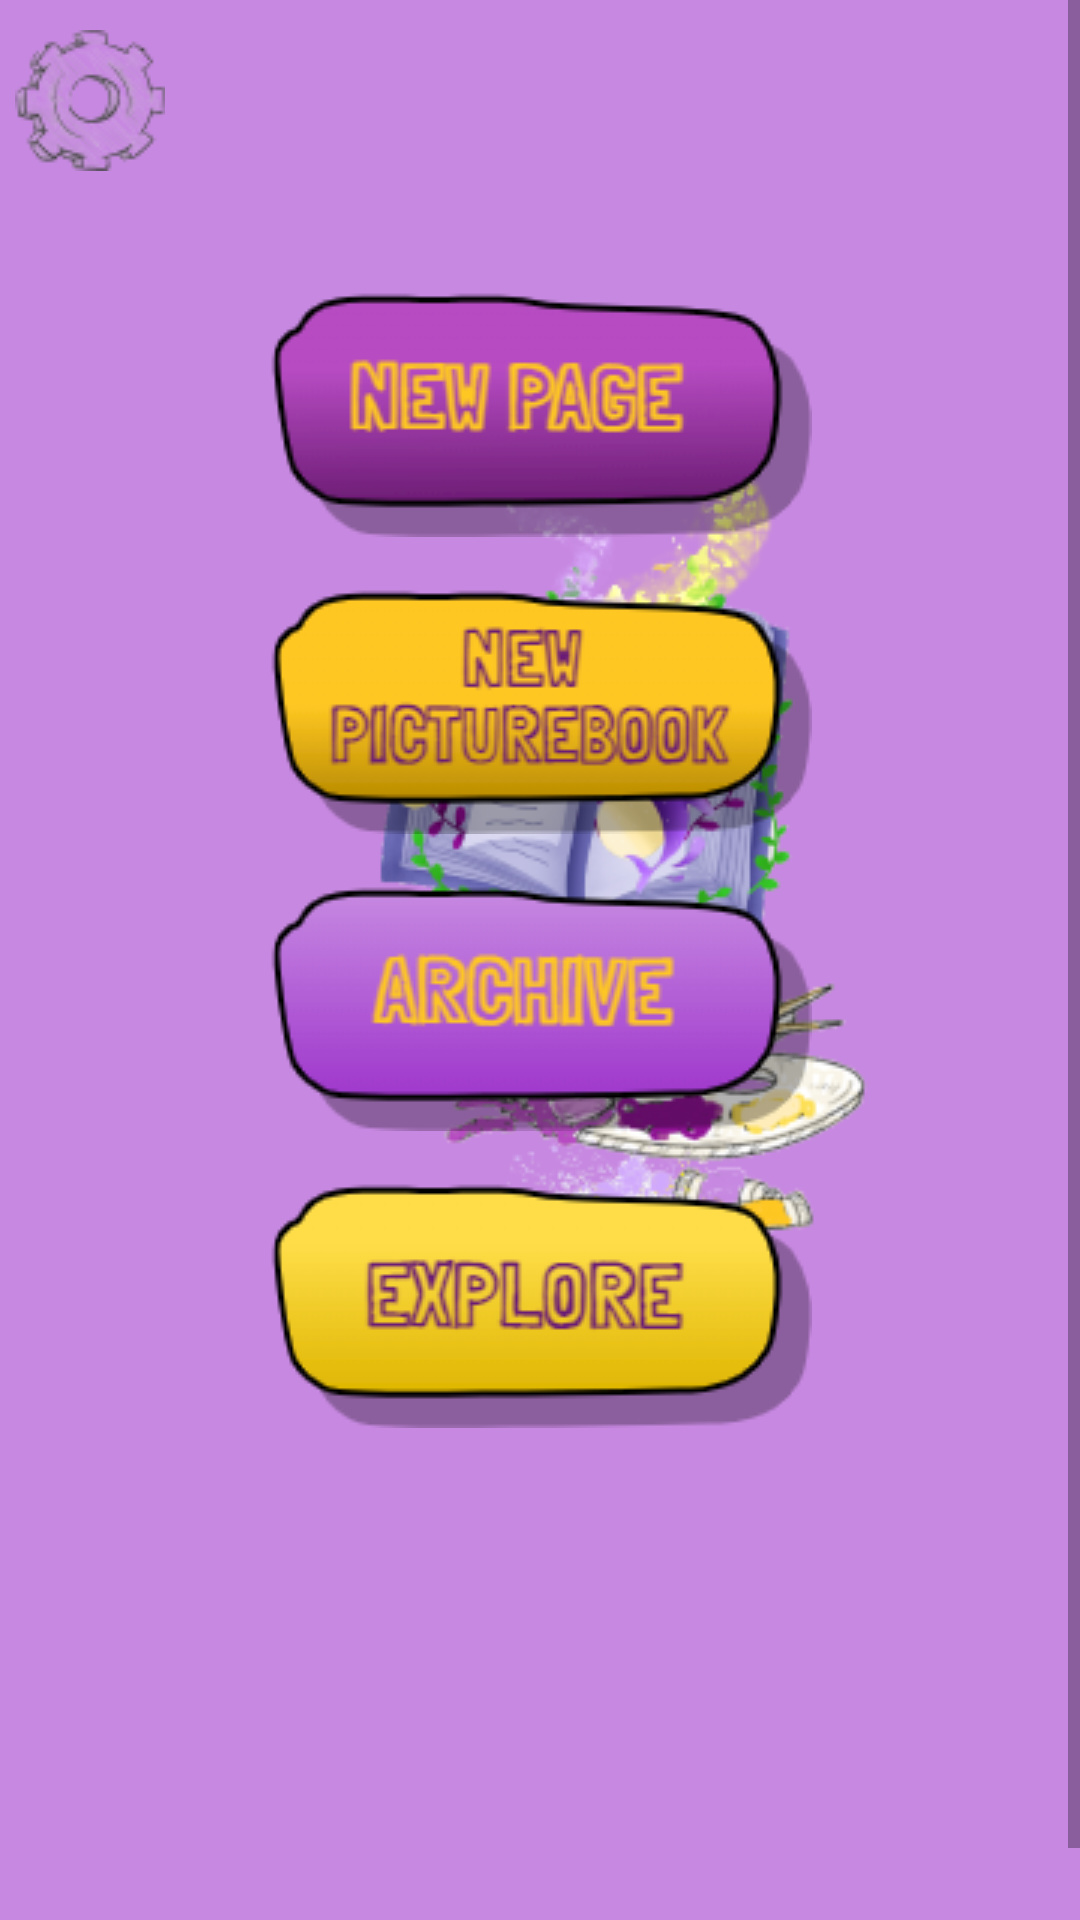

Icon click points for this 1080px x 1920px phone screenshot, format (x=x, y=y):
settings: (x=90, y=100)
